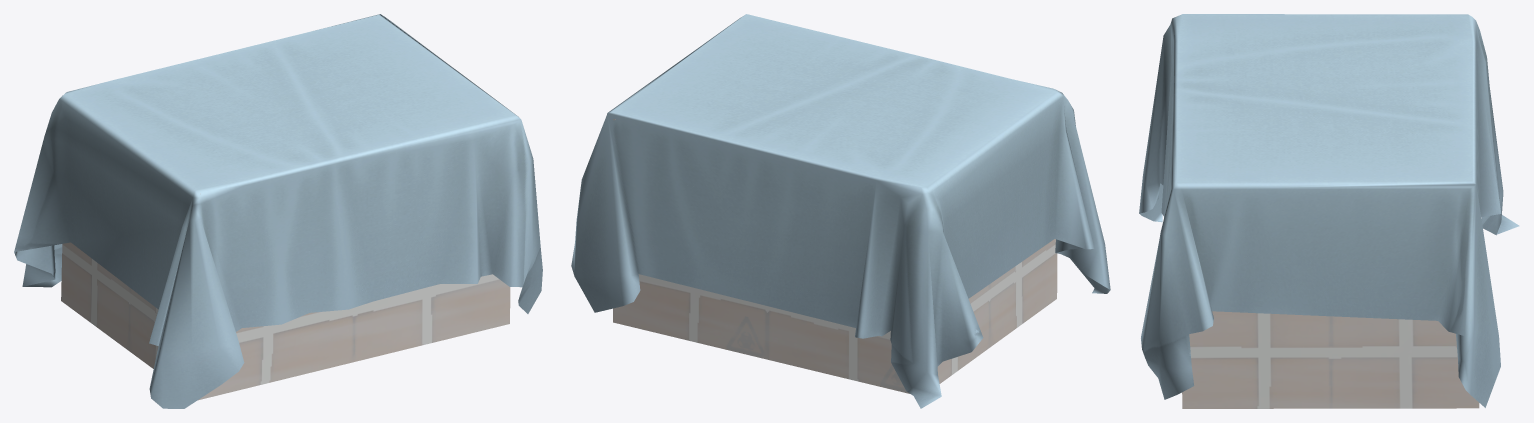
The model's file is Pfb_Box_GRP__16.fbx.
The picture shows the model from 3 angles, left to right: view 1: azimuth 30°, elevation 25°; view 2: azimuth 150°, elevation 25°; view 3: azimuth 270°, elevation 25°; orthographic projection. The views are drawn at different scales.
Visible parts, largest first — view 1: MAT_Canvas_01_Blue_Smooth 1, Mat_BoxGroup_02_Blue; view 2: MAT_Canvas_01_Blue_Smooth 1, Mat_BoxGroup_02_Blue; view 3: MAT_Canvas_01_Blue_Smooth 1, Mat_BoxGroup_02_Blue.
Boxes of the visible parts, x1,y1,x2,y2 form: MAT_Canvas_01_Blue_Smooth 1: (14,14,542,408); Mat_BoxGroup_02_Blue: (61,193,510,400); MAT_Canvas_01_Blue_Smooth 1: (571,14,1110,408); Mat_BoxGroup_02_Blue: (613,91,1058,393); MAT_Canvas_01_Blue_Smooth 1: (1139,14,1519,407); Mat_BoxGroup_02_Blue: (1176,16,1479,408).
Size of the model in its own units: 2.45 by 1.19 by 1.79.
Materials: 2 (2 with a texture image).
